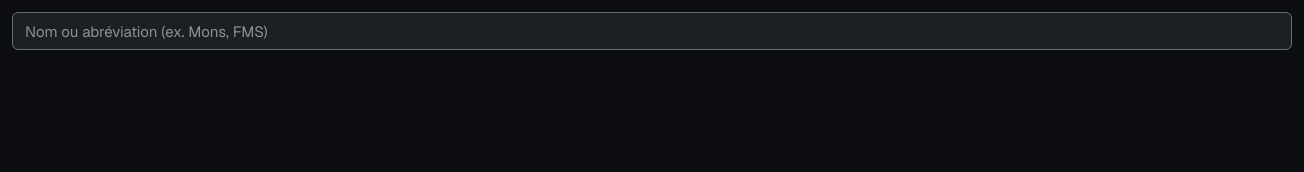
Test: StationInput (socle Combobox) › sortie du champ : nom corrigé vers celui du référentiel, saisie libre gardée sinon
This screenshot has width=1304, height=172.
Later steps or results of the test are not shown.
Type "maubeuge" into the dropdown named "Origine" at (652, 31), box [12, 12, 1292, 50]
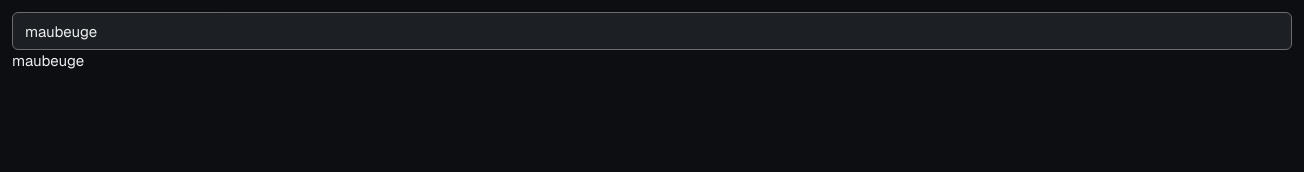
Leave the dropdown named "Origine", box [12, 12, 1292, 50]
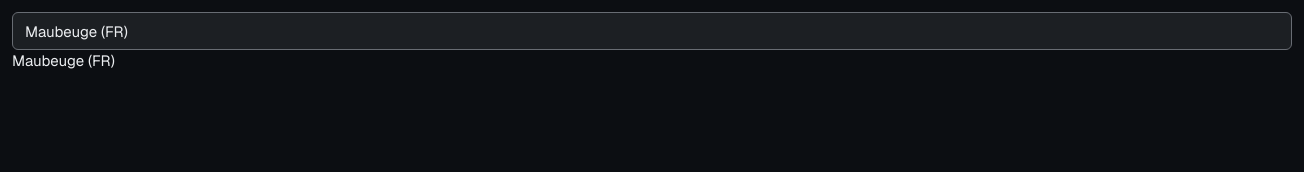
Now the dropdown named "Origine" holds "Maubeuge (FR)", box [12, 12, 1292, 50]
